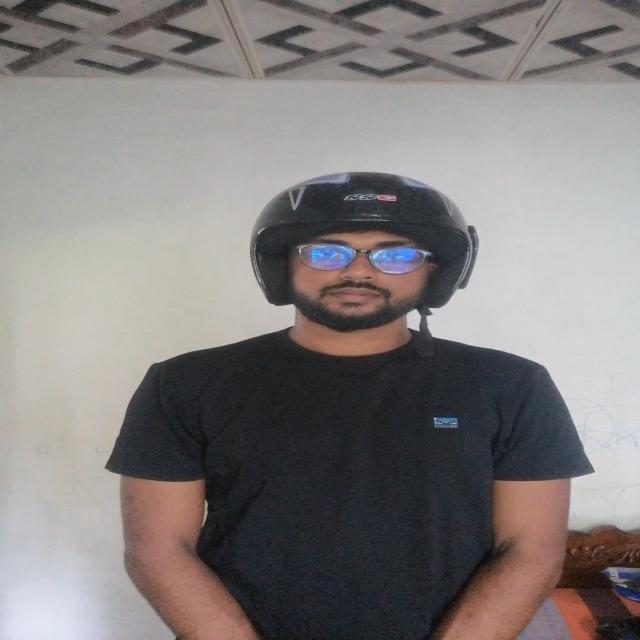Helmet_Wearer: (200, 158, 507, 388)
Person: (111, 170, 581, 640)
